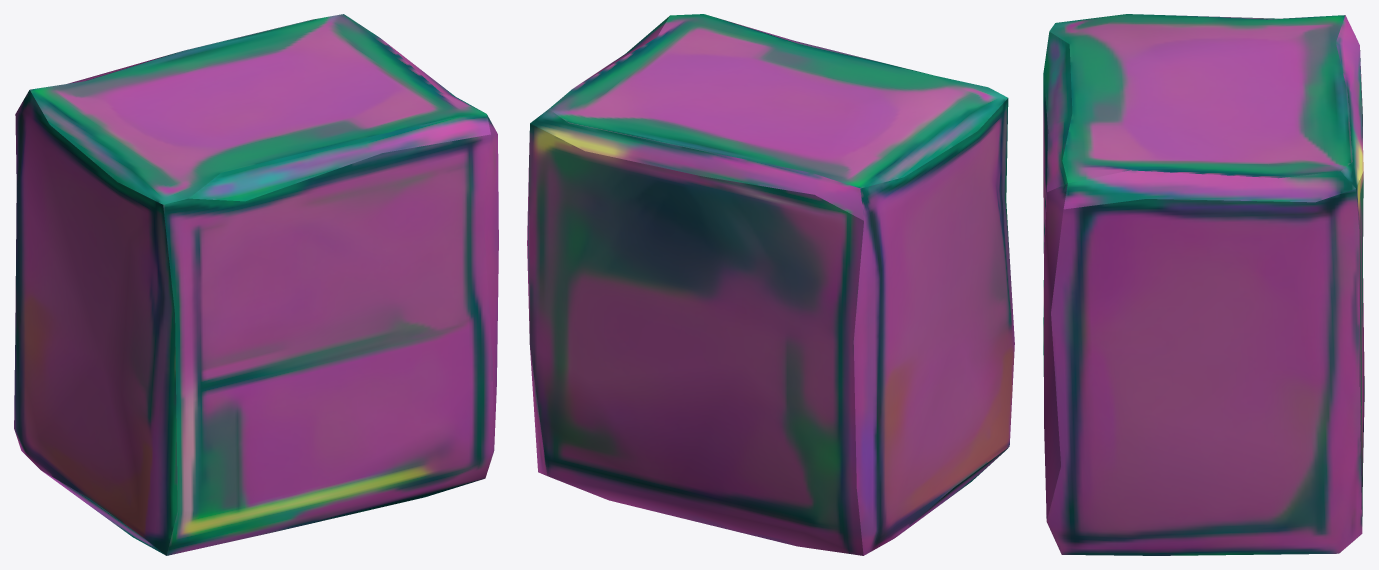
The model's file is neon-cube-shelf.glb.
The picture shows the model from 3 angles, left to right: view 1: azimuth 30°, elevation 25°; view 2: azimuth 150°, elevation 25°; view 3: azimuth 270°, elevation 25°; orthographic projection. The views are drawn at different scales.
Parts seen in each view (by area): view 1: geometry_0; view 2: geometry_0; view 3: geometry_0.
Part boxes in pixels (x1=…): geometry_0: x1=14, y1=14, x2=498, y2=555; geometry_0: x1=527, y1=14, x2=1014, y2=555; geometry_0: x1=1043, y1=14, x2=1364, y2=555.
Bounding box in the file's own units: 0.9782 × 1 × 0.7552.
1 material, 1 textured.
